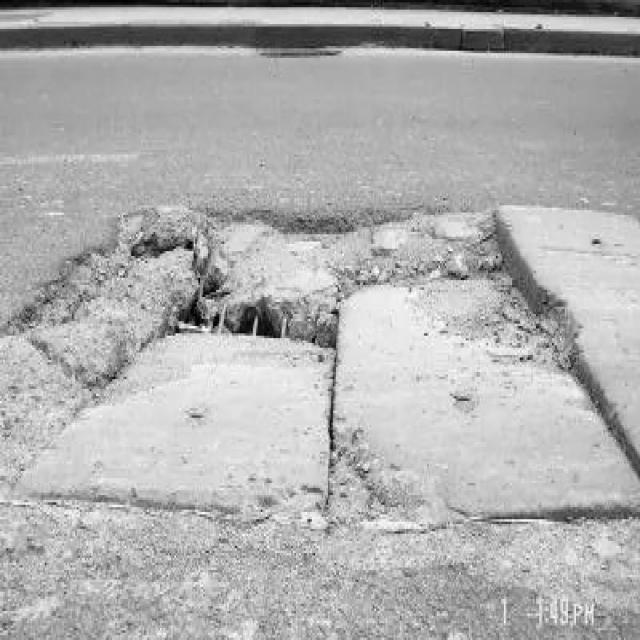Pothole: (9, 196, 638, 534)
